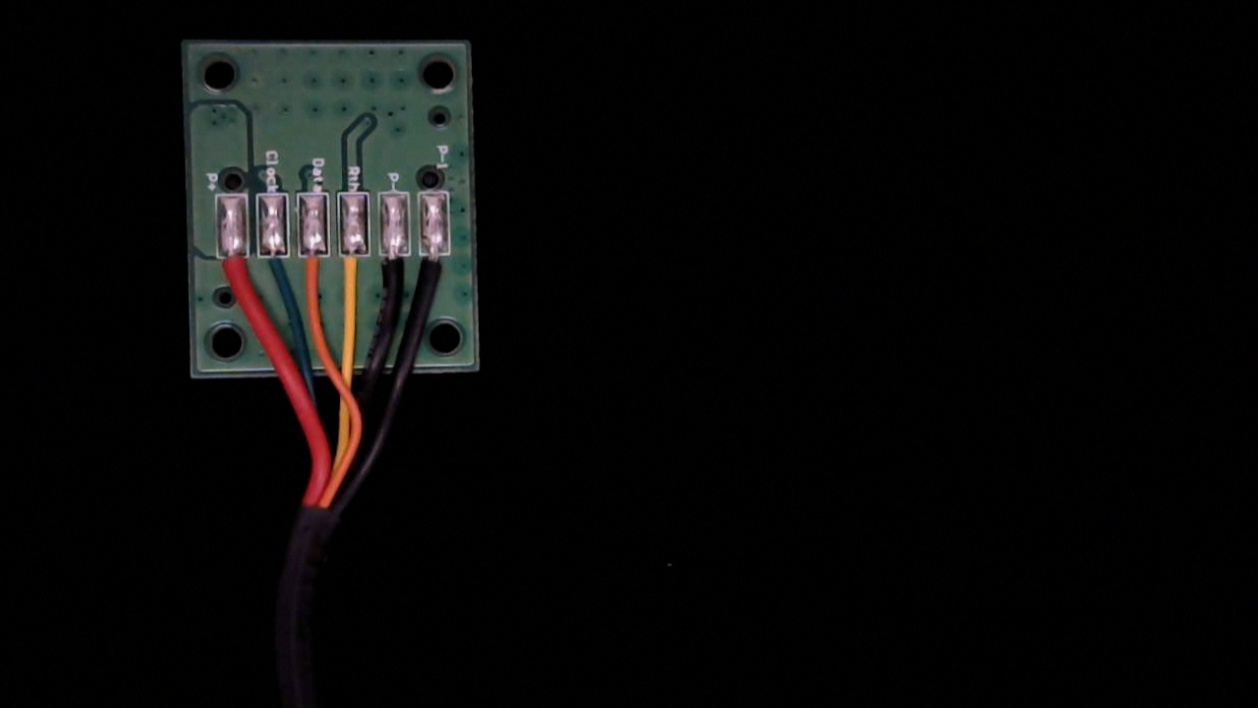Black: (379, 240, 409, 303)
Black1: (418, 241, 452, 307)
Green: (259, 240, 293, 298)
Orange: (298, 241, 330, 299)
Red: (217, 244, 248, 306)
Yellow: (338, 238, 373, 303)
